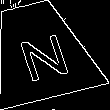N_N: (9, 21, 70, 81)
